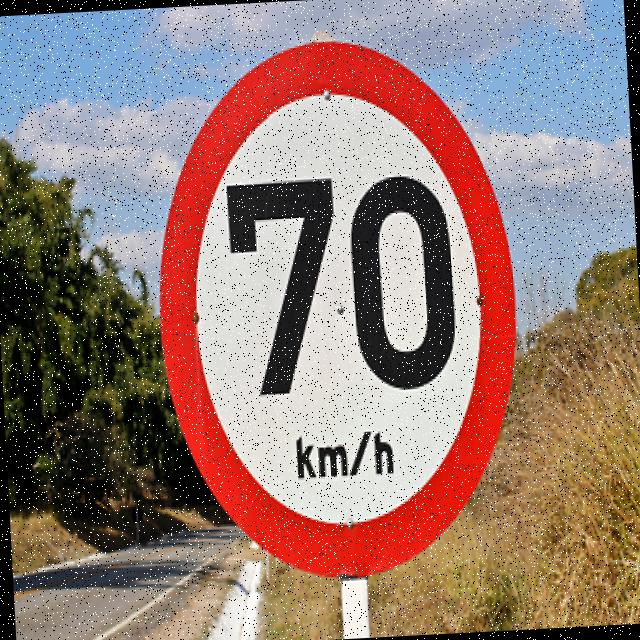speed_limit_70: (138, 19, 532, 590)
